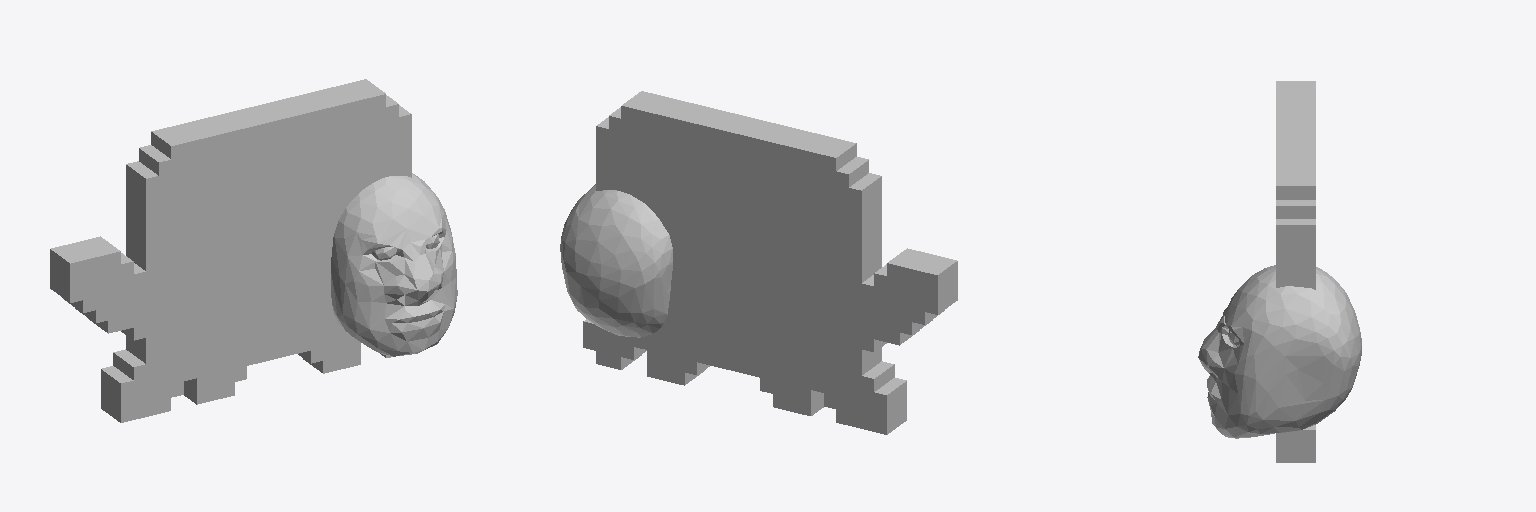
Rendered from head.obj.
3 views of the same model, side by side, from view 1: azimuth 30°, elevation 25°; view 2: azimuth 150°, elevation 25°; view 3: azimuth 270°, elevation 25° (orthographic).
Parts seen in each view (by area): view 1: Cube; view 2: Cube; view 3: Cube.
Part boxes in pixels (bbox=[...]): Cube: bbox=[50, 79, 457, 422]; Cube: bbox=[560, 91, 957, 434]; Cube: bbox=[1198, 81, 1361, 462].
Size of the model in its own units: 5.34 by 3.6 by 2.02.